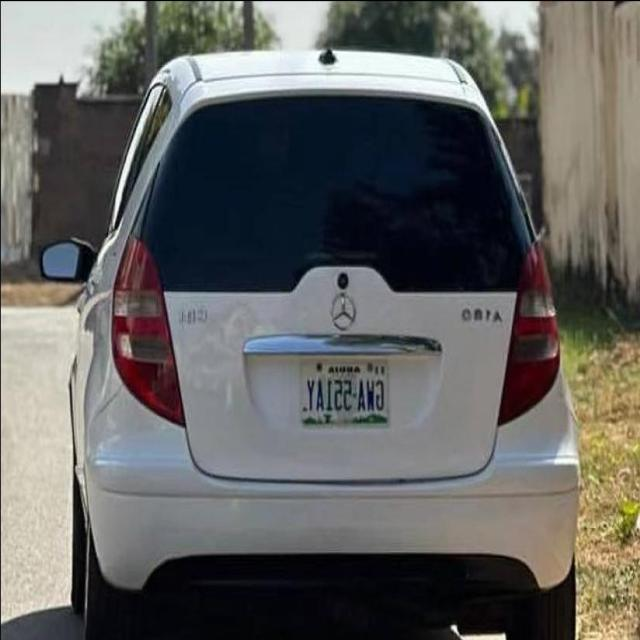Nigerian License Plate - vdataset benjamin-daria: (294, 348, 392, 433)
